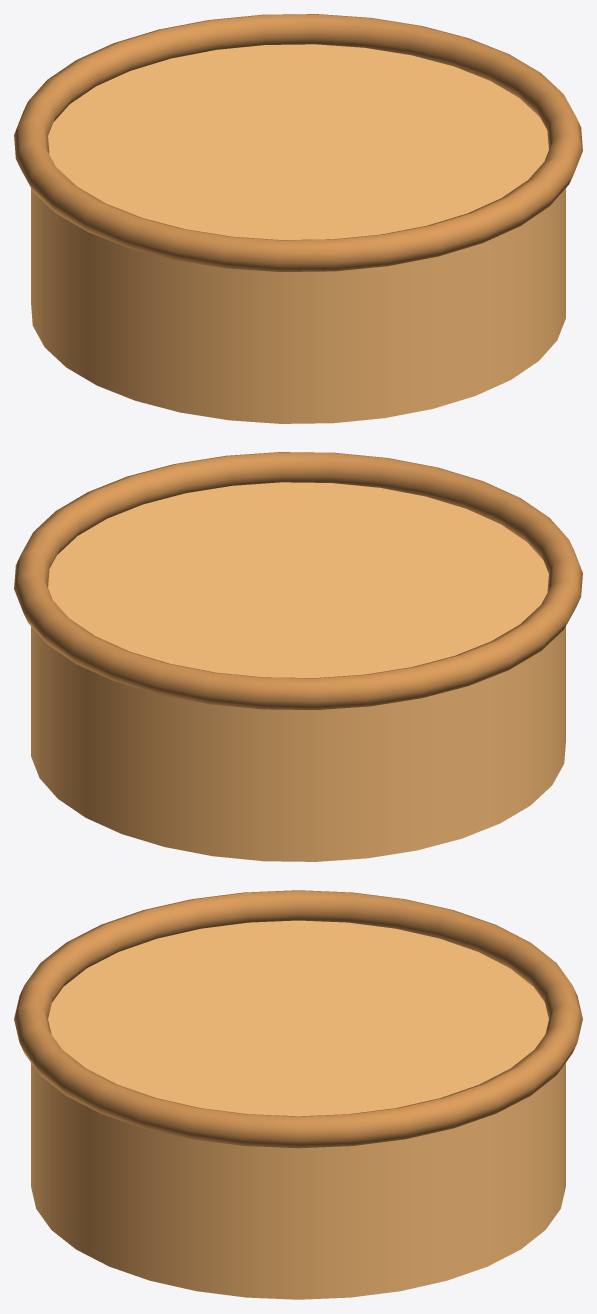
Rendered from agar-plug.glb.
The picture shows the model from 3 angles, top to bottom: view 1: azimuth 30°, elevation 25°; view 2: azimuth 150°, elevation 25°; view 3: azimuth 270°, elevation 25°; orthographic projection.
Parts seen in each view (by area): view 1: round_agar_plug, agar_cut_rim; view 2: round_agar_plug, agar_cut_rim; view 3: round_agar_plug, agar_cut_rim.
Boxes of the visible parts, <box> form: round_agar_plug: <box>31,44,565,423</box>; agar_cut_rim: <box>14,14,582,271</box>; round_agar_plug: <box>31,482,565,861</box>; agar_cut_rim: <box>14,452,582,709</box>; round_agar_plug: <box>31,920,565,1299</box>; agar_cut_rim: <box>14,890,582,1148</box>.
Size of the model in its own units: 1.17 by 0.415 by 1.17.
